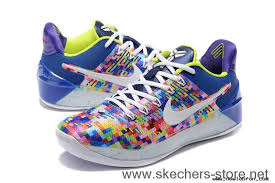nike: (164, 83, 232, 126), (62, 60, 141, 86)
